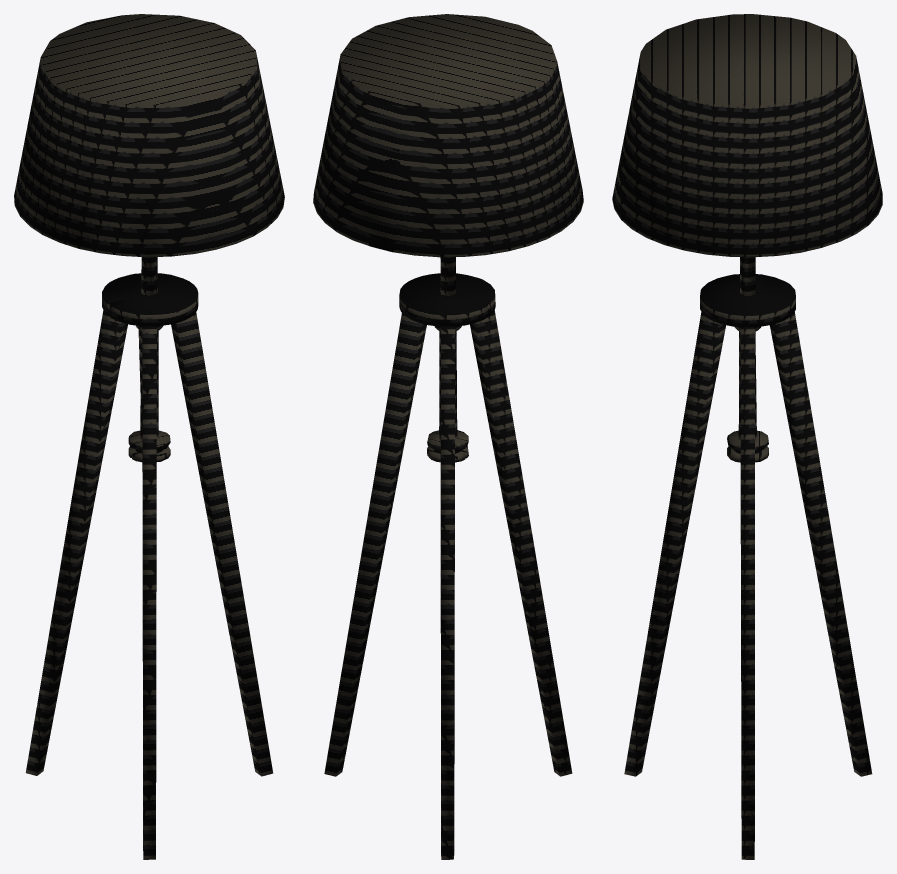
The model's file is floor_lamp-cosjfl-0.obj.
3 views of the same model, side by side, from view 1: azimuth 30°, elevation 25°; view 2: azimuth 150°, elevation 25°; view 3: azimuth 270°, elevation 25° (orthographic).
Size of the model in its own units: 0.454 by 1.35 by 0.4467.
Materials: 1 (1 with a texture image).
